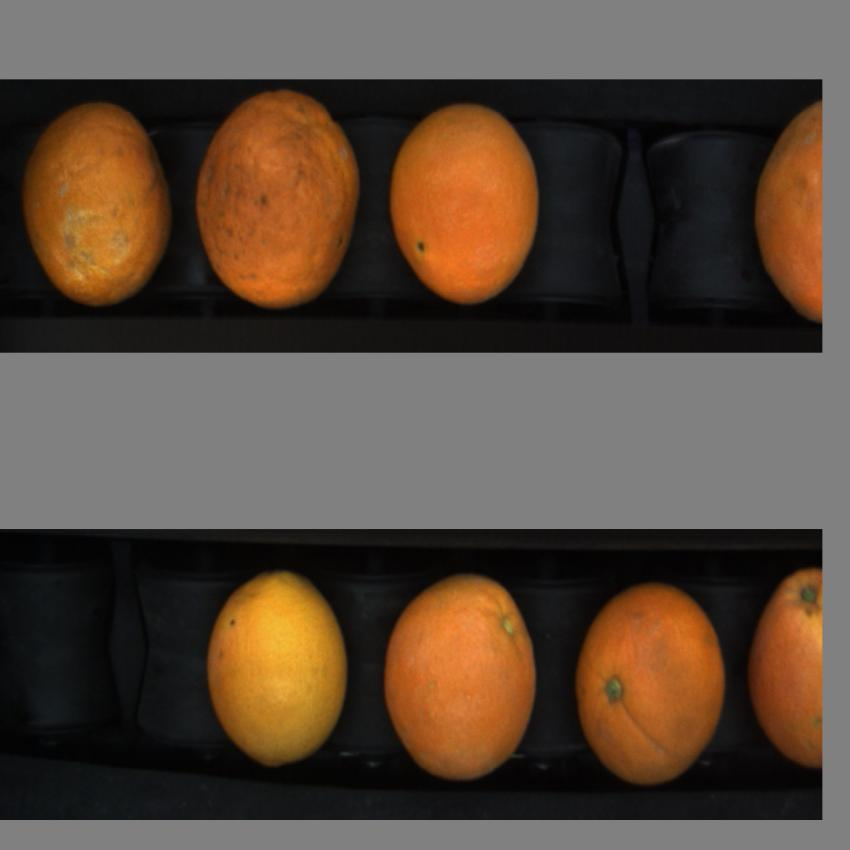Buen estado: (382, 90, 566, 322), (568, 564, 735, 801), (381, 558, 545, 794), (198, 561, 354, 786), (746, 563, 822, 792), (749, 99, 822, 334)
Mal estado: (192, 90, 373, 332), (16, 98, 177, 316)
